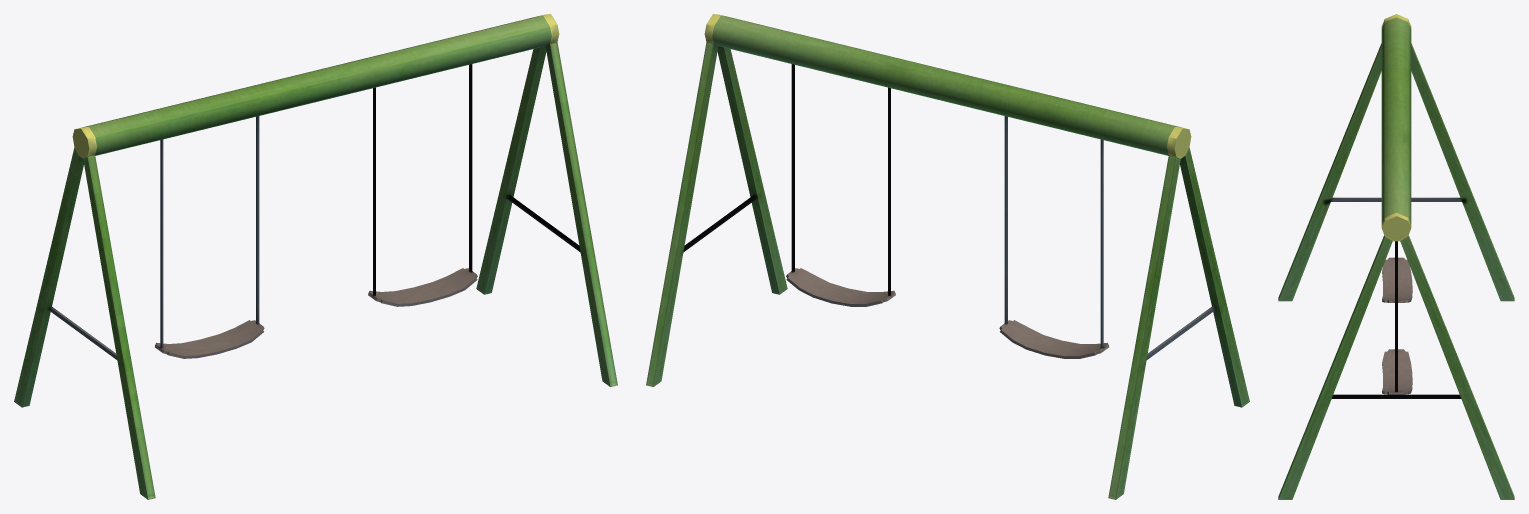
The model's file is swing_set.fbx.
3 renders of one model, left to right at view 1: azimuth 30°, elevation 25°; view 2: azimuth 150°, elevation 25°; view 3: azimuth 270°, elevation 25°, orthographic. The views are drawn at different scales.
Visible parts, largest first — view 1: swingSet; view 2: swingSet; view 3: swingSet.
Part boxes in pixels (bbox=[...]): swingSet: bbox=[14, 14, 617, 499]; swingSet: bbox=[646, 14, 1249, 499]; swingSet: bbox=[1278, 14, 1514, 499].
Size of the model in its own units: 8.79 by 5.76 by 4.34.
